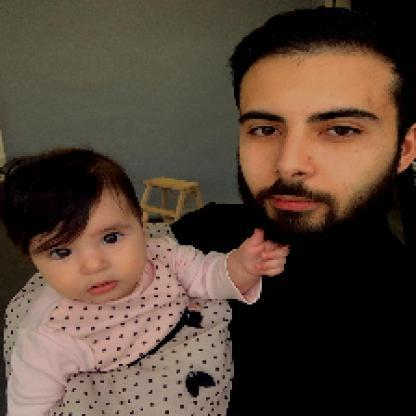child: (1, 145, 295, 416)
